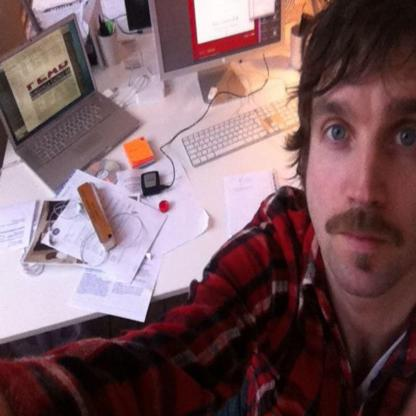board: (8, 11, 134, 188)
